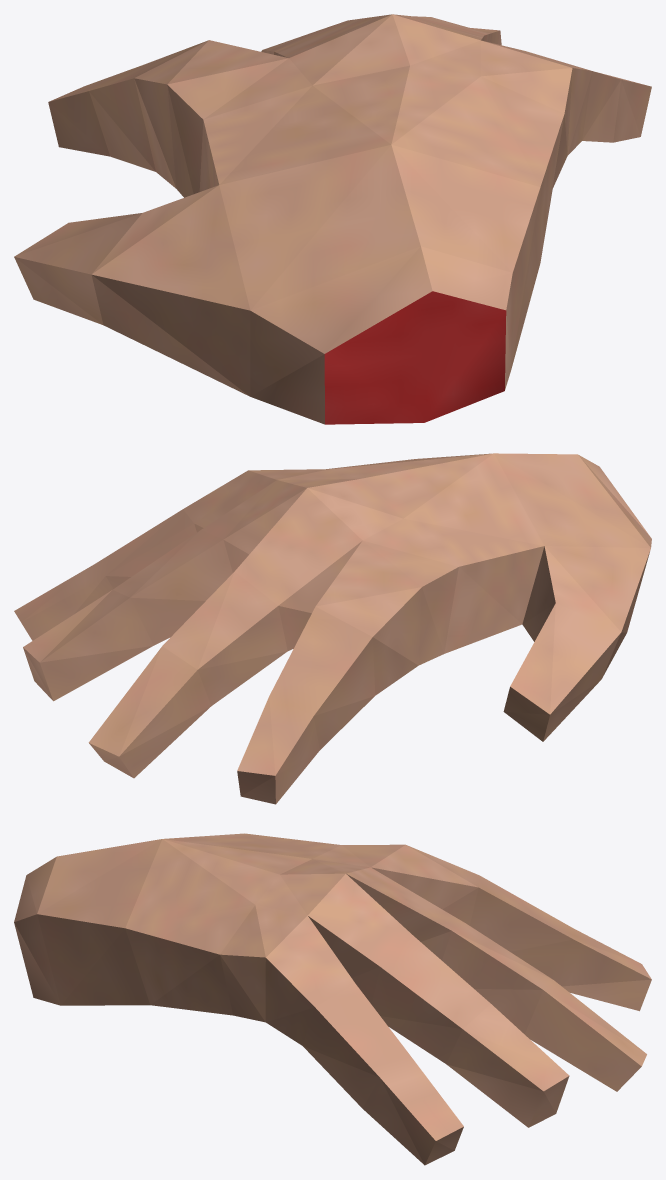
Rendered from g_hand.fbx.
3 renders of one model, top to bottom at view 1: azimuth 30°, elevation 25°; view 2: azimuth 150°, elevation 25°; view 3: azimuth 270°, elevation 25°, orthographic. The views are drawn at different scales.
Visible parts, largest first — view 1: hand; view 2: hand; view 3: hand.
Part boxes in pixels (x1=…): hand: x1=14, y1=14, x2=651, y2=424; hand: x1=14, y1=453, x2=651, y2=804; hand: x1=14, y1=833, x2=651, y2=1165.
Size of the model in its own units: 0.2188 by 0.2347 by 0.0781.
1 material, 1 textured.
